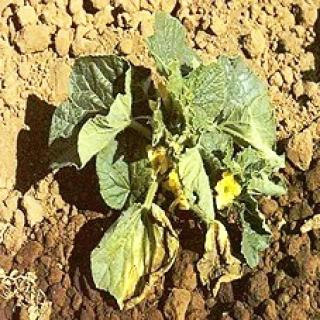wilt: (98, 209, 166, 295), (204, 217, 242, 284)
